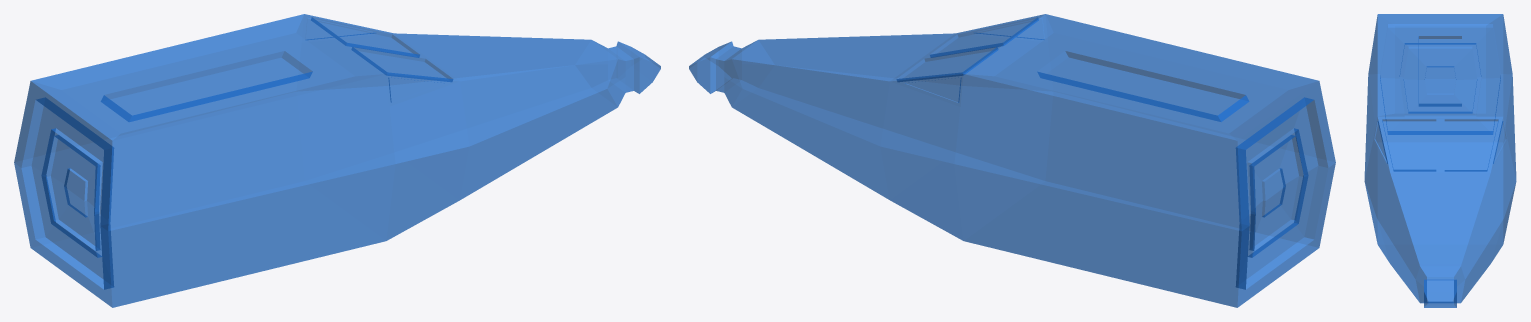
File: BaseVehicle.fbx
3 views of the same model, side by side, from view 1: azimuth 30°, elevation 25°; view 2: azimuth 150°, elevation 25°; view 3: azimuth 270°, elevation 25° (orthographic). The views are drawn at different scales.
Visible parts, largest first — view 1: Cube; view 2: Cube; view 3: Cube.
Part boxes in pixels (x1,y1,x2,y2): Cube: [14, 14, 660, 307]; Cube: [689, 14, 1335, 307]; Cube: [1364, 14, 1516, 307].
Bounding box in the file's own units: 2570 × 693 × 745.
